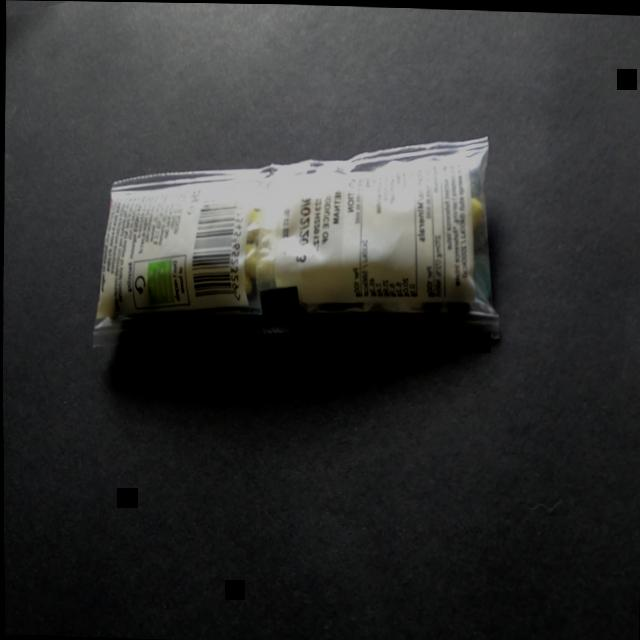Cashewnut: (82, 111, 515, 369)
